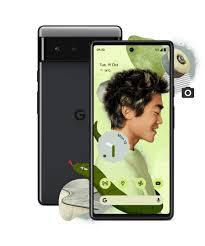Smartphone: (38, 25, 123, 210), (90, 41, 169, 215)
